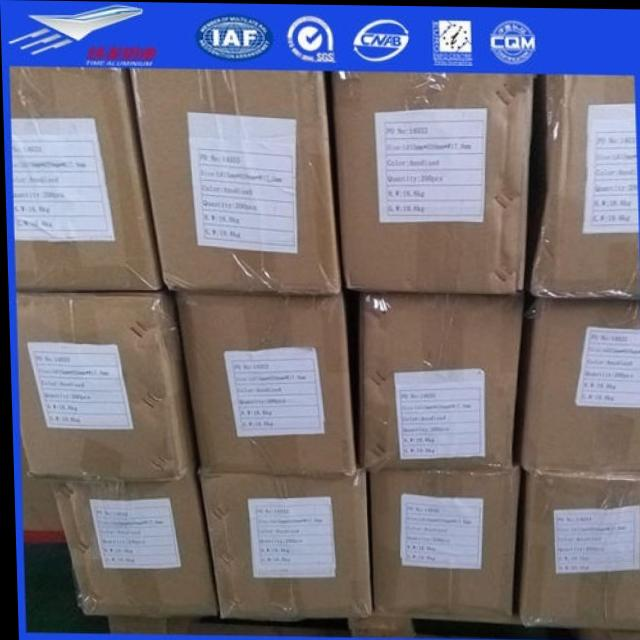box: (127, 68, 341, 295), (329, 70, 534, 294), (14, 289, 195, 482), (172, 288, 355, 478), (9, 67, 160, 292), (355, 292, 523, 471), (196, 465, 370, 623), (524, 74, 639, 299), (46, 462, 214, 616), (365, 453, 519, 618), (511, 291, 640, 471), (512, 468, 640, 630), (18, 437, 61, 543)
